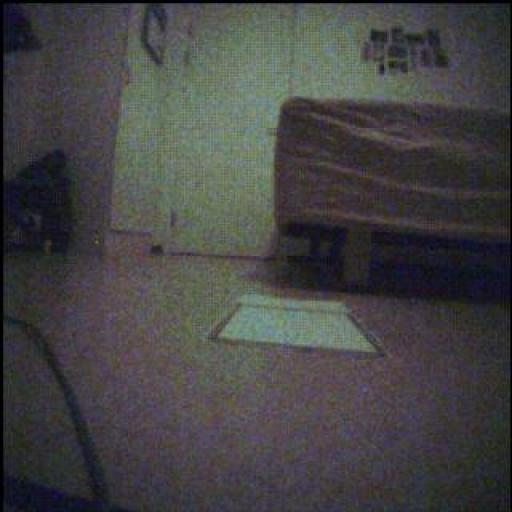pad: (211, 295, 385, 358)
